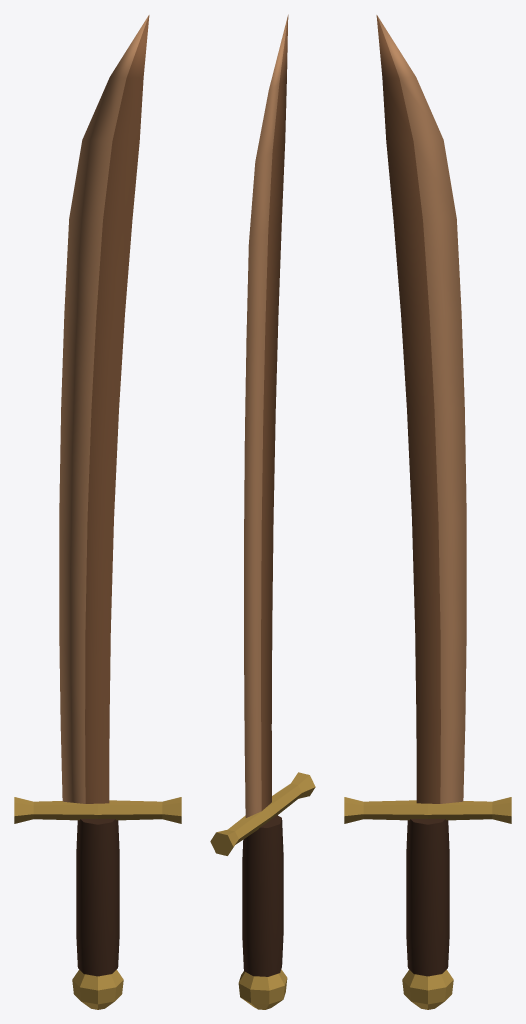
File: mm6_ske_sword.glb
The picture shows the model from 3 angles, left to right: view 1: azimuth 90°, elevation 25°; view 2: azimuth 150°, elevation 25°; view 3: azimuth 270°, elevation 25°; orthographic projection.
Visible parts, largest first — view 1: Sword; view 2: Sword; view 3: Sword.
Part boxes in pixels (x1,y1,x2,y2): Sword: [14, 15, 181, 1009]; Sword: [210, 14, 315, 1009]; Sword: [344, 15, 511, 1009].
Bounding box in the file's own units: 0.032 × 0.68 × 0.104.
Materials: 1 (1 with a texture image).
